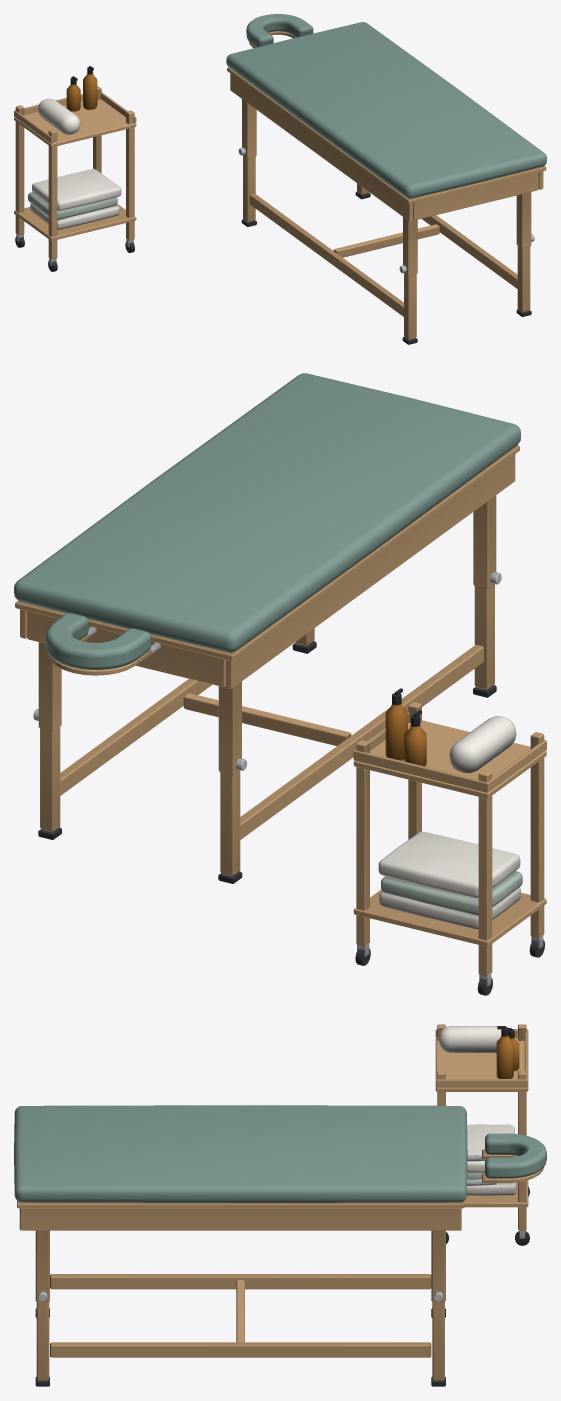
The model's file is massageTable.glb.
3 renders of one model, top to bottom at view 1: azimuth 30°, elevation 25°; view 2: azimuth 150°, elevation 25°; view 3: azimuth 270°, elevation 25°, orthographic. The views are drawn at different scales.
Parts seen in each view (by area): view 1: table, trolley_aside; view 2: table, trolley_aside; view 3: table, trolley_aside.
Part boxes in pixels (x1,y1,x2,y2): table: [226, 14, 546, 344]; trolley_aside: [14, 66, 136, 271]; table: [14, 373, 520, 883]; trolley_aside: [353, 688, 546, 995]; table: [14, 1105, 546, 1386]; trolley_aside: [435, 1024, 529, 1245].
Size of the model in its own units: 1.61 by 0.801 by 1.85.
